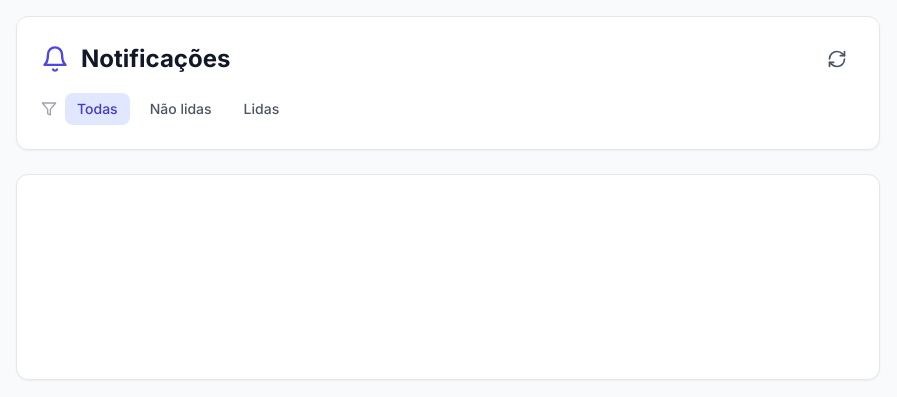
Test: NotificationsPage › renders empty state for unread filter
Click the button "Não lidas" at (181, 109), box [138,93,224,125]
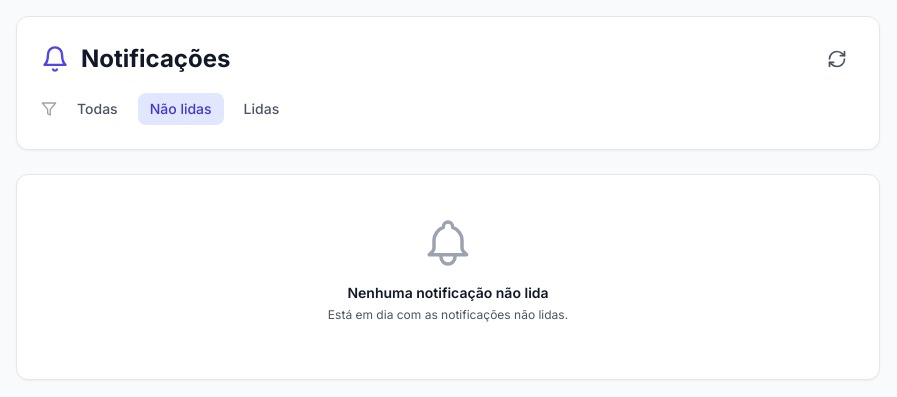
Result: the heading "Nenhuma notificação não lida" is shown at [347,283,549,303]
